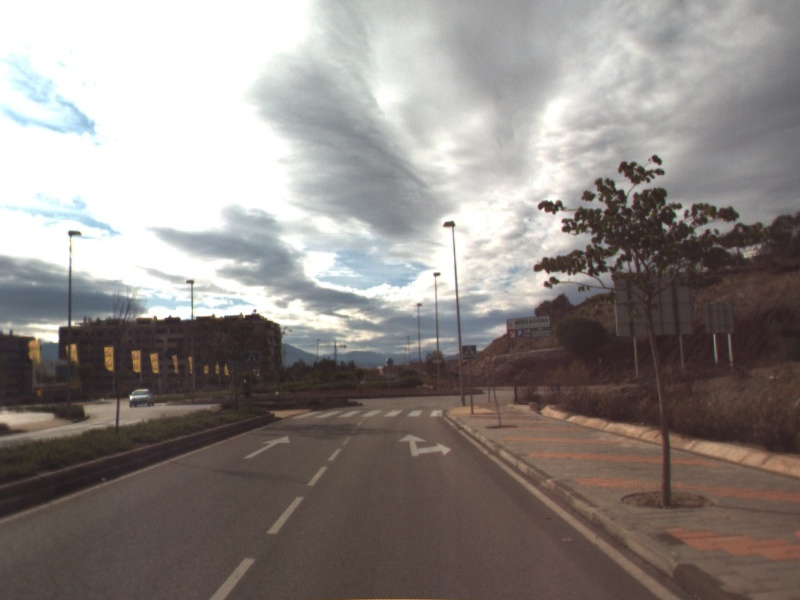STRAIGHT: (240, 433, 292, 461)
STRAIGHT_RIGHT: (397, 432, 454, 459)
